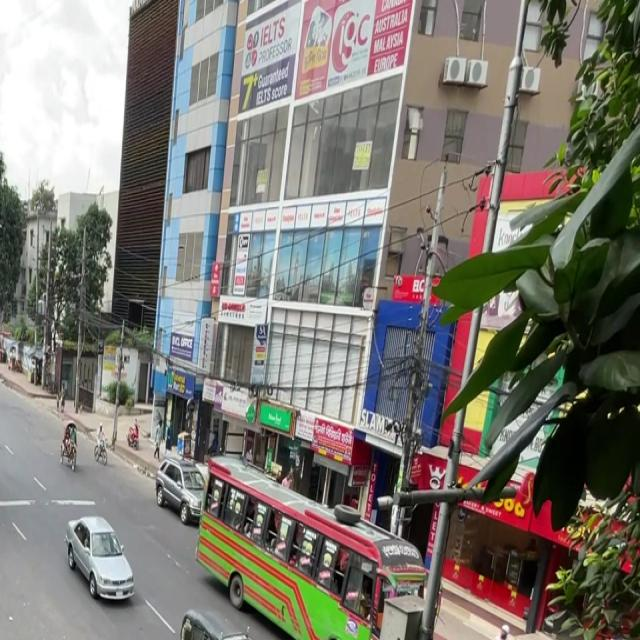bicycle: (91, 427, 109, 467)
bus: (198, 432, 437, 640)
car: (59, 507, 142, 612), (146, 451, 213, 524)
rickshaw: (164, 599, 264, 640)
